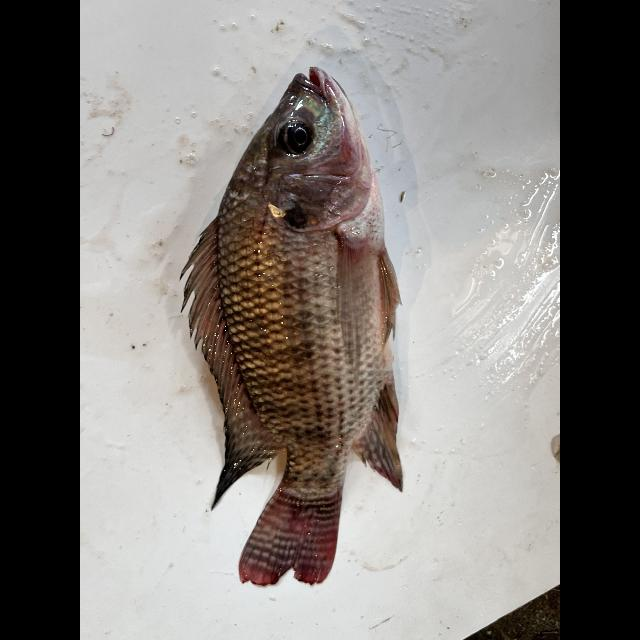Tilapia: (184, 66, 406, 586)
